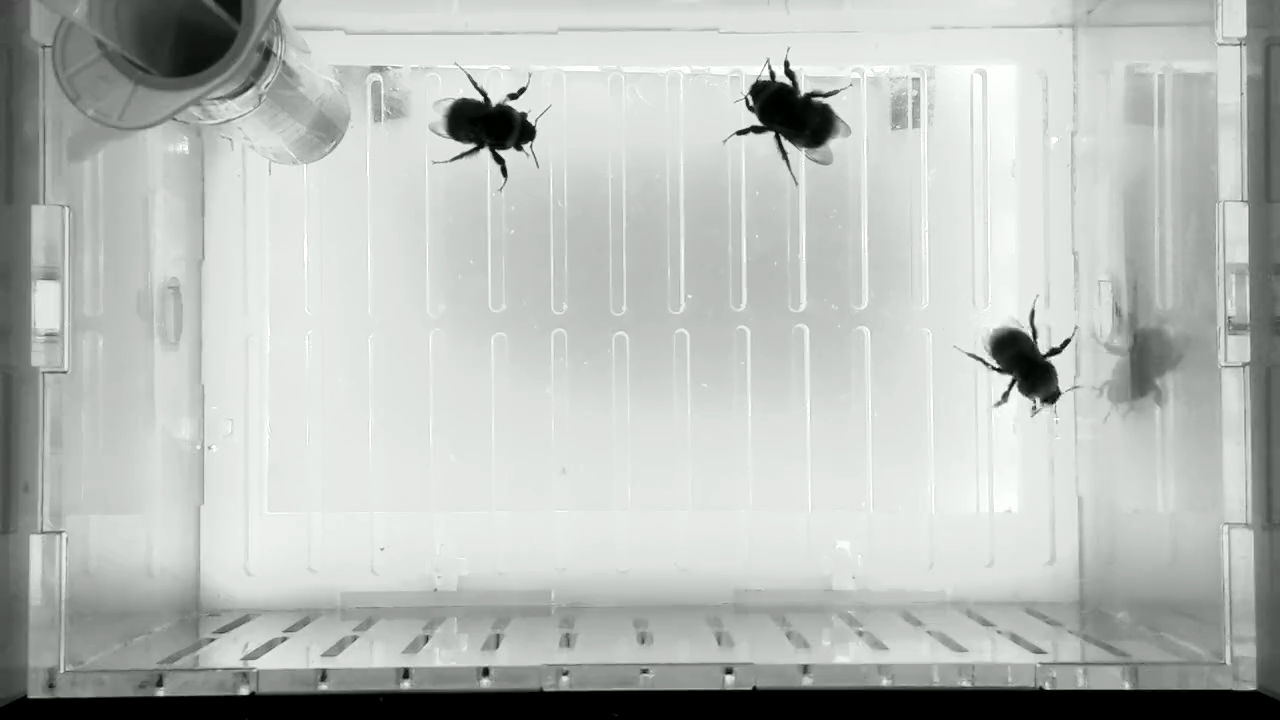bee_alive: (948, 288, 1088, 429), (724, 44, 859, 189), (422, 56, 552, 195)
feeder: (216, 18, 355, 168)
